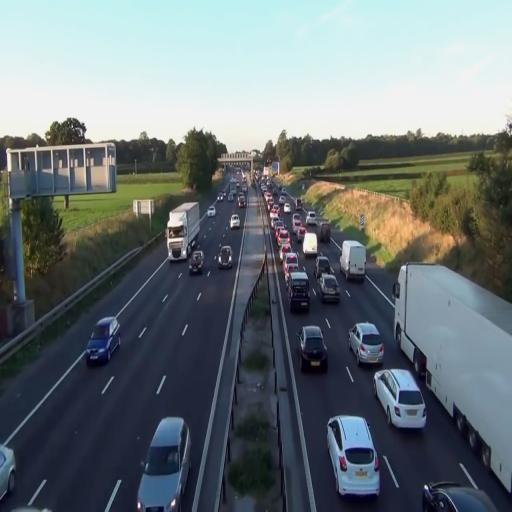vehicle: (392, 262, 512, 500), (136, 416, 190, 512), (326, 414, 380, 498), (373, 366, 427, 430), (422, 478, 498, 511), (166, 200, 201, 262), (167, 201, 201, 261), (85, 316, 121, 367), (349, 322, 384, 364), (298, 325, 328, 372), (339, 240, 366, 283), (0, 440, 16, 502), (288, 270, 310, 314), (316, 273, 340, 305), (188, 247, 204, 274), (283, 250, 298, 277), (217, 244, 233, 269), (229, 214, 241, 230)
